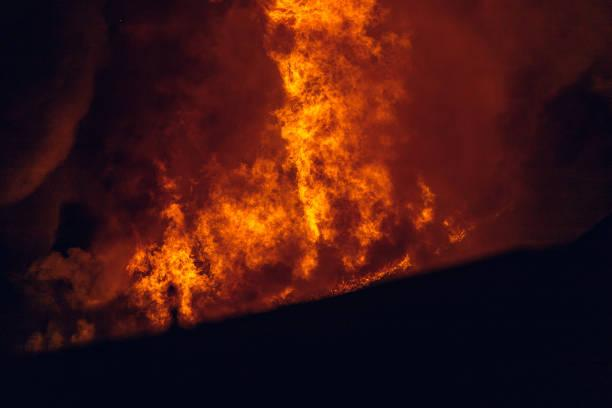Fire: (290, 0, 375, 241), (164, 215, 285, 282)
